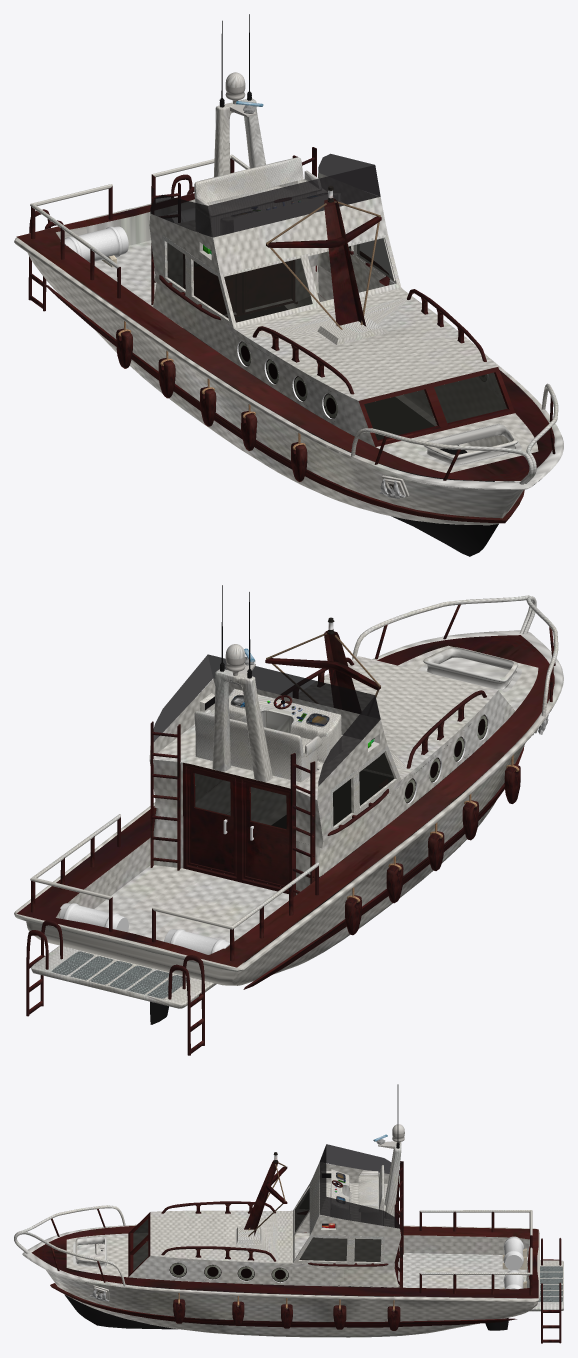
Rendered from boat-minnow.glb.
The picture shows the model from 3 angles, top to bottom: view 1: azimuth 30°, elevation 25°; view 2: azimuth 150°, elevation 25°; view 3: azimuth 270°, elevation 25°; orthographic projection. The views are drawn at different scales.
Visible parts, largest first — view 1: Object_44, Object_32, Object_49, Object_21, Object_5, Object_7, Object_19; view 2: Object_44, Object_32, Object_49, Object_29, Object_21, Object_5, Object_7; view 3: Object_44, Object_32, Object_49, Object_21, Object_5, Object_7, Object_29.
Boxes of the visible parts, <box> form: Object_44: <box>14,98,563,525</box>; Object_32: <box>16,147,555,523</box>; Object_49: <box>150,153,506,440</box>; Object_21: <box>167,14,498,556</box>; Object_5: <box>60,208,194,262</box>; Object_7: <box>238,341,486,418</box>; Object_19: <box>266,201,380,329</box>; Object_44: <box>14,595,563,1008</box>; Object_32: <box>16,604,555,1055</box>; Object_49: <box>153,654,394,829</box>; Object_29: <box>51,951,190,999</box>; Object_21: <box>150,585,501,1024</box>; Object_5: <box>59,903,229,954</box>; Object_7: <box>404,714,487,803</box>; Object_44: <box>14,1141,563,1337</box>; Object_32: <box>31,1160,561,1343</box>; Object_49: <box>133,1144,399,1270</box>; Object_21: <box>64,1084,508,1330</box>; Object_5: <box>503,1236,523,1298</box>; Object_7: <box>169,1262,288,1282</box>; Object_29: <box>538,1266,562,1301</box>.
Bounding box in the file's own units: 3.54 × 5.24 × 10.84.
Materials: 38 (35 with a texture image).
